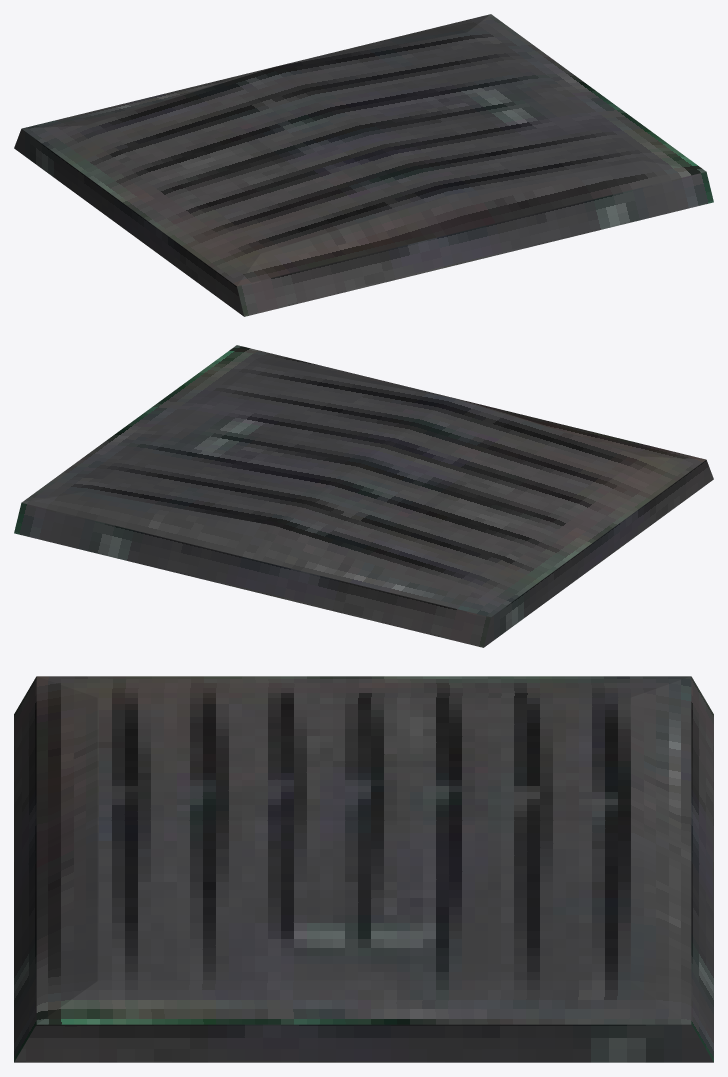
The model's file is dumpster_lid_1.glb.
3 renders of one model, top to bottom at view 1: azimuth 30°, elevation 25°; view 2: azimuth 150°, elevation 25°; view 3: azimuth 270°, elevation 25°, orthographic. The views are drawn at different scales.
Visible parts, largest first — view 1: dumpster_lid_1; view 2: dumpster_lid_1; view 3: dumpster_lid_1.
Part boxes in pixels (bbox=[...]): dumpster_lid_1: bbox=[14, 14, 713, 316]; dumpster_lid_1: bbox=[14, 345, 713, 647]; dumpster_lid_1: bbox=[14, 676, 713, 1062].
Size of the model in its own units: 1.93 by 0.1752 by 1.64.
Materials: 1 (1 with a texture image).
